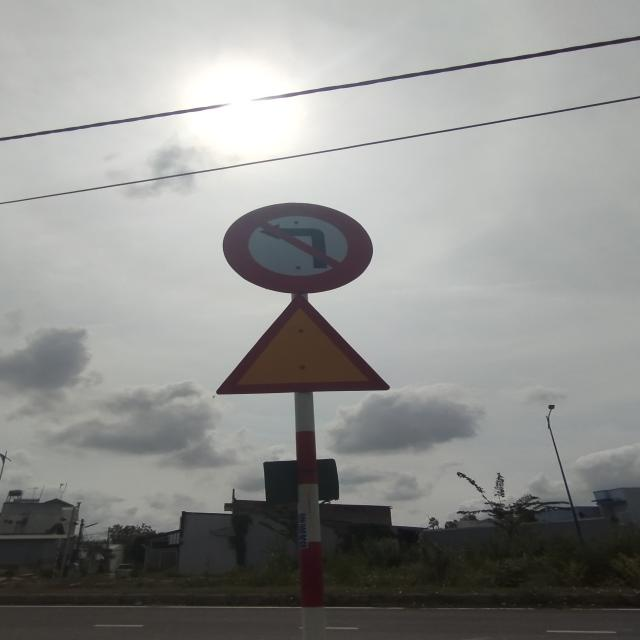Cam_Re_Trai: (222, 202, 374, 295)
Gioi_Han_Toc_Do_25: (214, 296, 390, 396)
